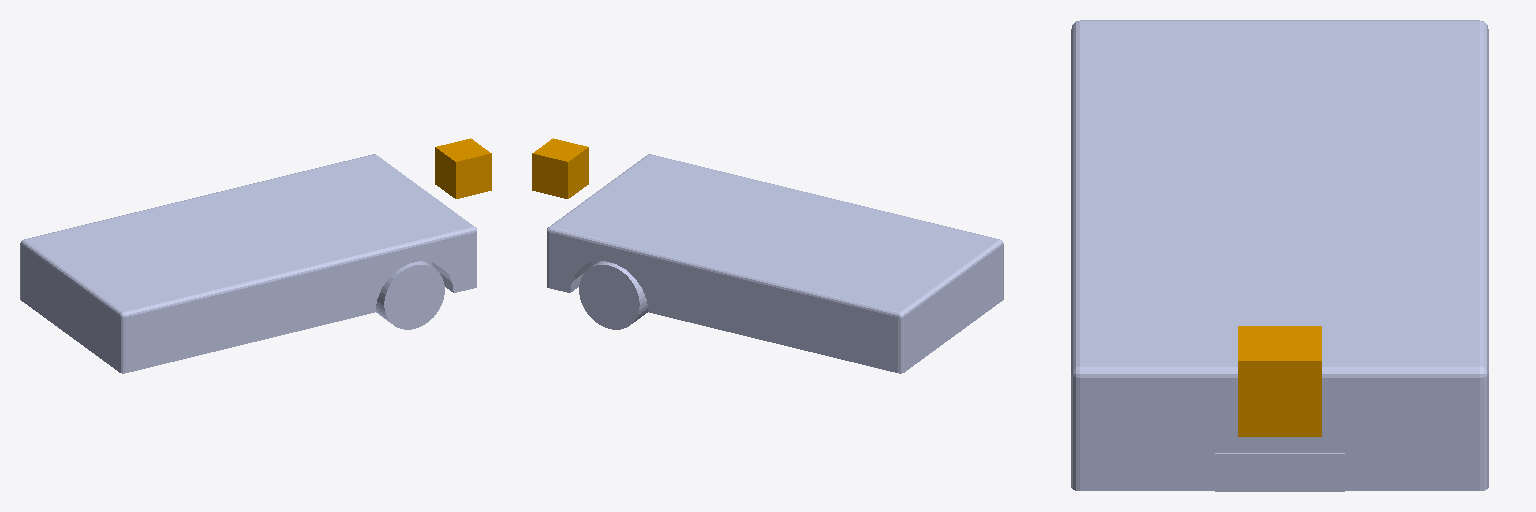
The robot description file, URDF, robot "differentialRobot":
<?xml version="1.0" encoding="utf-8"?>
<!-- This URDF was automatically created by SolidWorks to URDF Exporter! Originally created by [author] ([email redacted]) 
     Commit Version: 1.5.1-0-g916b5db  Build Version: 1.5.7152.31018
     For more information, please see http://wiki.ros.org/sw_urdf_exporter -->
<robot
  name="differentialRobot">
  <link
    name="base_link">
    <inertial>
      <origin
        xyz="0.0098794 -4.1862E-17 0.0034954"
        rpy="0 0 0" />
      <mass
        value="71.854" />
      <inertia
        ixx="1.657"
        ixy="-5.7485E-16"
        ixz="0.021573"
        iyy="5.8166"
        iyz="1.4772E-16"
        izz="7.1645" />
    </inertial>
    <visual>
      <origin
        xyz="0 0 0"
        rpy="0 0 0" />
      <geometry>
        <mesh
          filename="package://robot_description/meshes/base_link.STL" />
      </geometry>
      <material
        name="">
        <color
          rgba="0.79216 0.81961 0.93333 1" />
      </material>
    </visual>
    <collision>
      <origin
        xyz="0 0 0"
        rpy="0 0 0" />
      <geometry>
        <mesh
          filename="package://robot_description/meshes/base_link.STL" />
      </geometry>
    </collision>
  </link>
  <link
    name="right_wheel_link">
    <inertial>
      <origin
        xyz="0 0 -0.054877"
        rpy="0 0 0" />
      <mass
        value="1.8206" />
      <inertia
        ixx="0.0042591"
        ixy="-5.421E-20"
        ixz="5.3908E-20"
        iyy="0.0042591"
        iyz="6.8415E-21"
        izz="0.00656" />
    </inertial>
    <visual>
      <origin
        xyz="0 0 0"
        rpy="0 0 0" />
      <geometry>
        <mesh
          filename="package://robot_description/meshes/right_wheel_link.STL" />
      </geometry>
      <material
        name="">
        <color
          rgba="0.79216 0.81961 0.93333 1" />
      </material>
    </visual>
    <collision>
      <origin
        xyz="0 0 0"
        rpy="0 0 0" />
      <geometry>
        <mesh
          filename="package://robot_description/meshes/right_wheel_link.STL" />
      </geometry>
    </collision>
  </link>
  <joint
    name="right_wheel_joint"
    type="continuous">
    <origin
      xyz="0.32 -0.155 -0.064926"
      rpy="-1.5708 0.13359 0" />
    <parent
      link="base_link" />
    <child
      link="right_wheel_link" />
    <axis
      xyz="0 0 1" />
  </joint>
  <link
    name="left_wheel_link">
    <inertial>
      <origin
        xyz="2.7756E-17 0 -0.054877"
        rpy="0 0 0" />
      <mass
        value="1.8206" />
      <inertia
        ixx="0.0042591"
        ixy="-4.3368E-19"
        ixz="1.5916E-19"
        iyy="0.0042591"
        iyz="1.3035E-20"
        izz="0.00656" />
    </inertial>
    <visual>
      <origin
        xyz="0 0 0"
        rpy="3.1416 0 0" />
      <geometry>
        <mesh
          filename="package://robot_description/meshes/right_wheel_link.STL" />
      </geometry>
      <material
        name="">
        <color
          rgba="0.79216 0.81961 0.93333 1" />
      </material>
    </visual>
    <collision>
      <origin
        xyz="0 0 0"
        rpy="3.1416 0 0" />
      <geometry>
        <mesh
          filename="package://robot_description/meshes/right_wheel_link.STL" />
      </geometry>
    </collision>
  </link>

  <joint
    name="left_wheel_joint"
    type="continuous">
    <origin
      xyz="0.32 0.155 -0.064926"
      rpy="1.5708 -1.2488 3.1416" />
    <parent
      link="base_link" />
    <child
      link="left_wheel_link" />
    <axis
      xyz="0 0 1" />
  </joint>

  <link
    name="base_c_link">
    <inertial>
      <origin
        xyz="5.5511E-17 0.002282 4.7425E-17"
        rpy="0 0 0" />
      <mass
        value="0.53523" />
      <inertia
        ixx="0.00052562"
        ixy="4.0805E-21"
        ixz="3.7312E-19"
        iyy="0.0012519"
        iyz="-9.5907E-21"
        izz="0.000729" />
    </inertial>
    <visual>
      <origin
        xyz="0 0 0"
        rpy="0 0 0" />
      <geometry>
        <mesh
          filename="package://robot_description/meshes/base_c_link.STL" />
      </geometry>
      <material
        name="">
        <color
          rgba="0.64706 0.61961 0.58431 1" />
      </material>
    </visual>
    <collision>
      <origin
        xyz="0 0 0"
        rpy="0 0 0" />
      <geometry>
        <mesh
          filename="package://robot_description/meshes/base_c_link.STL" />
      </geometry>
    </collision>
  </link>
  <joint
    name="base_c_joint"
    type="fixed">
    <origin
      xyz="-0.36 0 0.010238"
      rpy="1.5708 0 0" />
    <parent
      link="base_link" />
    <child
      link="base_c_link" />
    <axis
      xyz="0 0 0" />
  </joint>
  <link
    name="fork_c_link">
    <inertial>
      <origin
        xyz="-0.018778 -0.039352 7.4319E-09"
        rpy="0 0 0" />
      <mass
        value="0.34679" />
      <inertia
        ixx="0.00062753"
        ixy="-0.00012722"
        ixz="-1.2248E-10"
        iyy="0.00044283"
        iyz="-4.7433E-11"
        izz="0.00063004" />
    </inertial>
    <visual>
      <origin
        xyz="0 0 0"
        rpy="0 0 0" />
      <geometry>
        <mesh
          filename="package://robot_description/meshes/fork_c_link.STL" />
      </geometry>
      <material
        name="">
        <color
          rgba="0.64706 0.61961 0.58431 1" />
      </material>
    </visual>
    <collision>
      <origin
        xyz="0 0 0"
        rpy="0 0 0" />
      <geometry>
        <mesh
          filename="package://robot_description/meshes/fork_c_link.STL" />
      </geometry>
    </collision>
  </link>
  <joint
    name="fork_c_joint"
    type="continuous">
    <origin
      xyz="0 0 0"
      rpy="3.1416 -0.52774 3.1416" />
    <parent
      link="base_c_link" />
    <child
      link="fork_c_link" />
    <axis
      xyz="0 1 0" />
  </joint>
  <link
    name="pin_c_link">
    <inertial>
      <origin
        xyz="1.7486E-15 5.5511E-17 1.3878E-17"
        rpy="0 0 0" />
      <mass
        value="0.09369" />
      <inertia
        ixx="2.8522E-06"
        ixy="-1.9588E-20"
        ixz="-1.319E-19"
        iyy="3.6098E-05"
        iyz="-6.088E-22"
        izz="3.6098E-05" />
    </inertial>
    <visual>
      <origin
        xyz="0 0 0"
        rpy="0 0 0" />
      <geometry>
        <mesh
          filename="package://robot_description/meshes/pin_c_link.STL" />
      </geometry>
      <material
        name="">
        <color
          rgba="0.64706 0.61961 0.58431 1" />
      </material>
    </visual>
    <collision>
      <origin
        xyz="0 0 0"
        rpy="0 0 0" />
      <geometry>
        <mesh
          filename="package://robot_description/meshes/pin_c_link.STL" />
      </geometry>
    </collision>
  </link>
  <joint
    name="pin_c_joint"
    type="fixed">
    <origin
      xyz="-0.042 -0.11024 0"
      rpy="1.5646 1.5708 0" />
    <parent
      link="fork_c_link" />
    <child
      link="pin_c_link" />
    <axis
      xyz="0 0 0" />
  </joint>
  <link
    name="bearing_c_link">
    <inertial>
      <origin
        xyz="2.0262E-15 6.9389E-17 -1.6653E-16"
        rpy="0 0 0" />
      <mass
        value="0.024819" />
      <inertia
        ixx="1.8031E-06"
        ixy="2.1178E-20"
        ixz="1.6782E-20"
        iyy="8.266E-06"
        iyz="-7.2222E-35"
        izz="8.266E-06" />
    </inertial>
    <visual>
      <origin
        xyz="0 0 0"
        rpy="0 0 0" />
      <geometry>
        <mesh
          filename="package://robot_description/meshes/bearing_c_link.STL" />
      </geometry>
      <material
        name="">
        <color
          rgba="0.64706 0.61961 0.58431 1" />
      </material>
    </visual>
    <collision>
      <origin
        xyz="0 0 0"
        rpy="0 0 0" />
      <geometry>
        <mesh
          filename="package://robot_description/meshes/bearing_c_link.STL" />
      </geometry>
    </collision>
  </link>
  <joint
    name="bearing_c_joint"
    type="continuous">
    <origin
      xyz="0 0 0"
      rpy="-1.5646 0 0" />
    <parent
      link="pin_c_link" />
    <child
      link="bearing_c_link" />
    <axis
      xyz="1 0 0" />
  </joint>
  <link
    name="wheel_c_link">
    <inertial>
      <origin
        xyz="2.2204E-16 4.1633E-17 1.9706E-15"
        rpy="0 0 0" />
      <mass
        value="0.56957" />
      <inertia
        ixx="0.00097832"
        ixy="-2.8766E-20"
        ixz="-4.3368E-19"
        iyy="0.00097832"
        iyz="-2.981E-18"
        izz="0.0017885" />
    </inertial>
    <visual>
      <origin
        xyz="0 0 0"
        rpy="0 0 0" />
      <geometry>
        <mesh
          filename="package://robot_description/meshes/wheel_c_link.STL" />
      </geometry>
      <material
        name="">
        <color
          rgba="1 1 1 1" />
      </material>
    </visual>
    <collision>
      <origin
        xyz="0 0 0"
        rpy="0 0 0" />
      <geometry>
        <mesh
          filename="package://robot_description/meshes/wheel_c_link.STL" />
      </geometry>
    </collision>
  </link>
  <joint
    name="wheel_c_joint"
    type="continuous">
    <origin
      xyz="0 0 0"
      rpy="3.1416 1.5708 -3.1416" />
    <parent
      link="bearing_c_link" />
    <child
      link="wheel_c_link" />
    <axis
      xyz="0 0 1" />
  </joint>

  <!--<link
    name="laser_sick_link">
    <inertial>
      <origin
        xyz="2.3225E-09 0.00059635 0.07464"
        rpy="0 0 0" />
      <mass
        value="29.076" />
      <inertia
        ixx="0.13416"
        ixy="2.4047E-09"
        ixz="-5.1043E-09"
        iyy="0.10224"
        iyz="-0.0099819"
        izz="0.13751" />
    </inertial>
    <visual>
      <origin
        xyz="0 0 0"
        rpy="0 0 0" />
      <geometry>
        <mesh
          filename="package://robot_description/meshes/laser_sick_link.STL" />
      </geometry>
      <material
        name="">
        <color
          rgba="0.75294 0.75294 0.75294 1" />
      </material>
    </visual>
    <collision>
      <origin
        xyz="0 0 0"
        rpy="0 0 0" />
      <geometry>
        <mesh
          filename="package://robot_description/meshes/laser_sick_link.STL" />
      </geometry>
    </collision>
  </link>-->
  <!--<joint
    name="laser_sick_joint"
    type="fixed">
    <origin
      xyz="0.501 0 0.0125"
      rpy="1.5708 0 1.5708" />
    <parent
      link="base_link" />
    <child
      link="laser_sick_link" />
    <axis
      xyz="0 0 0" />
  </joint>-->


  <link name="hokuyo_link">
    
    <visual>
      <origin xyz="0 0 0" rpy="0 0 0"/>
      <geometry>
        <box size="0.1 0.1 0.1"/>
      </geometry>
    </visual>
   
  </link>

  <joint name="hokuyo_joint" type="fixed">
    <axis xyz="0 1 0" />
    <origin xyz="0.601 0 0.1125" rpy="0 0 0"/>
    <parent link="base_link"/>
    <child link="hokuyo_link"/>
  </joint>


  <gazebo>
    <plugin name="differential_drive_controller" filename="libgazebo_ros_diff_drive.so">
      <leftJoint>left_wheel_joint</leftJoint>
      <rightJoint>right_wheel_joint</rightJoint>
      <robotBaseFrame>base_link</robotBaseFrame>
      <wheelSeparation>0.33</wheelSeparation>
      <wheelDiameter>0.15</wheelDiameter>
      <publishWheelJointState>true</publishWheelJointState>
    </plugin>
  </gazebo>

  <gazebo>
    <plugin name="joint_state_publisher" filename="libgazebo_ros_joint_state_publisher.so">
      <jointName>fork_c_joint, wheel_c_joint, bearing_c_joint</jointName>
    </plugin>
  </gazebo>

  <gazebo reference="hokuyo_link">
    <sensor type="ray" name="hokuyo">
      <pose>0 0 0 0 0 0</pose>
      <visualize>false</visualize>
      <update_rate>40</update_rate>
      <ray>
        <scan>
          <horizontal>
            <samples>720</samples>
            <resolution>1</resolution>
            <min_angle>-1.570796</min_angle>
            <max_angle>1.570796</max_angle>
          </horizontal>
        </scan>
        <range>
          <min>0.10</min>
          <max>100.0</max>
          <resolution>0.01</resolution>
        </range>
      </ray>
      <plugin name="gpu_laser" filename="libgazebo_ros_laser.so">
        <topicName>/scan</topicName>
        <frameName>hokuyo_link</frameName>
      </plugin>
    </sensor>
  </gazebo>
</robot>

--- Render facts (derived) ---
Views: 3 orthographic renders of the robot side by side, from view 1: azimuth 30°, elevation 25°; view 2: azimuth 150°, elevation 25°; view 3: azimuth 270°, elevation 25°.
Robot: differentialRobot — 9 links, 8 joints (5 continuous, 3 fixed); root link base_link; default pose: all joints at 0.
Visible links, largest first — view 1: base_link, right_wheel_link, hokuyo_link; view 2: base_link, left_wheel_link, hokuyo_link; view 3: base_link, hokuyo_link.
Boxes of the visible links, x1,y1,x2,y2 form: base_link: (20, 154, 476, 373); right_wheel_link: (375, 261, 444, 329); hokuyo_link: (435, 138, 491, 198); base_link: (547, 154, 1003, 373); left_wheel_link: (579, 261, 648, 329); hokuyo_link: (532, 138, 588, 198); base_link: (1071, 20, 1488, 491); hokuyo_link: (1238, 326, 1321, 436).
Bounding box of the posed robot: 1.15 × 0.5 × 0.3372 m (x, y, z).
Meshes: 7 distinct files referenced, 8 mesh visuals loaded (7 binary STL).
